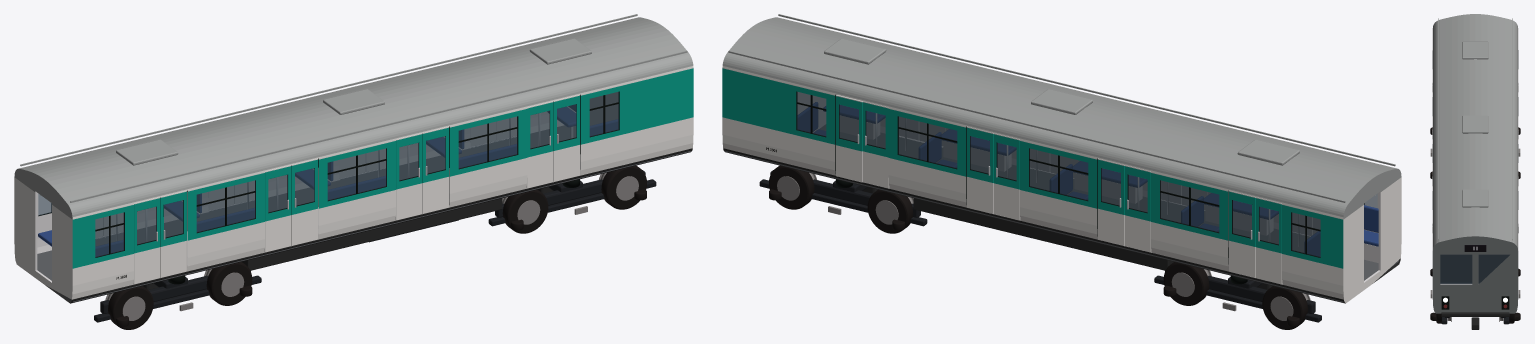
File: mp59_cab.glb
3 renders of one model, left to right at view 1: azimuth 30°, elevation 25°; view 2: azimuth 150°, elevation 25°; view 3: azimuth 270°, elevation 25°, orthographic. The views are drawn at different scales.
Parts seen in each view (by area): view 1: METRO_MP59_L11-Reno-4voit_V1_Caisse, METRO_MP59_L11-Reno-4voit_V1_BaieG1; view 2: METRO_MP59_L11-Reno-4voit_V1_Caisse, METRO_MP59_L11-Reno-4voit_V1_BaieG1; view 3: METRO_MP59_L11-Reno-4voit_V1_Caisse, METRO_MP59_L11-Reno-4voit_V1_BaieG1.
Part boxes in pixels (x1,y1,x2,y2): METRO_MP59_L11-Reno-4voit_V1_Caisse: (14,14,693,329); METRO_MP59_L11-Reno-4voit_V1_BaieG1: (38,91,618,257); METRO_MP59_L11-Reno-4voit_V1_Caisse: (722,14,1401,329); METRO_MP59_L11-Reno-4voit_V1_BaieG1: (797,91,1377,257); METRO_MP59_L11-Reno-4voit_V1_Caisse: (1430,14,1520,329); METRO_MP59_L11-Reno-4voit_V1_BaieG1: (1440,254,1509,283).
Bounding box in the file's own units: 15.6 × 3.48 × 2.6.
Materials: 6 (1 with a texture image).
